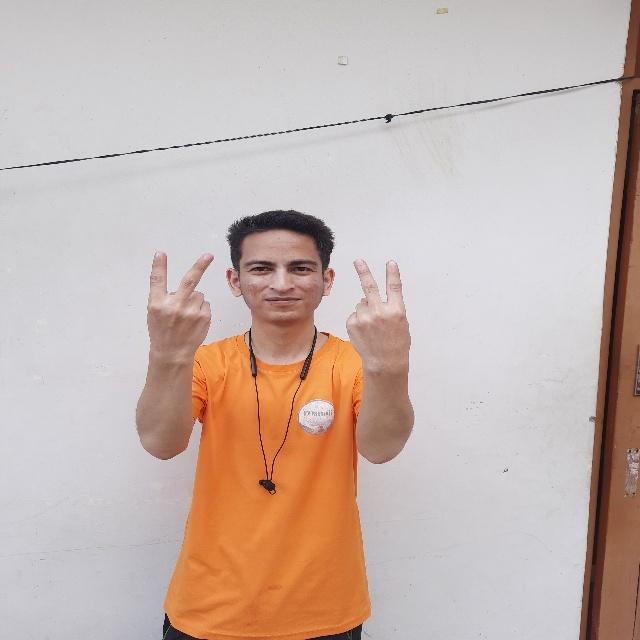Reversed Victory: (139, 244, 225, 380), (340, 252, 419, 382)
